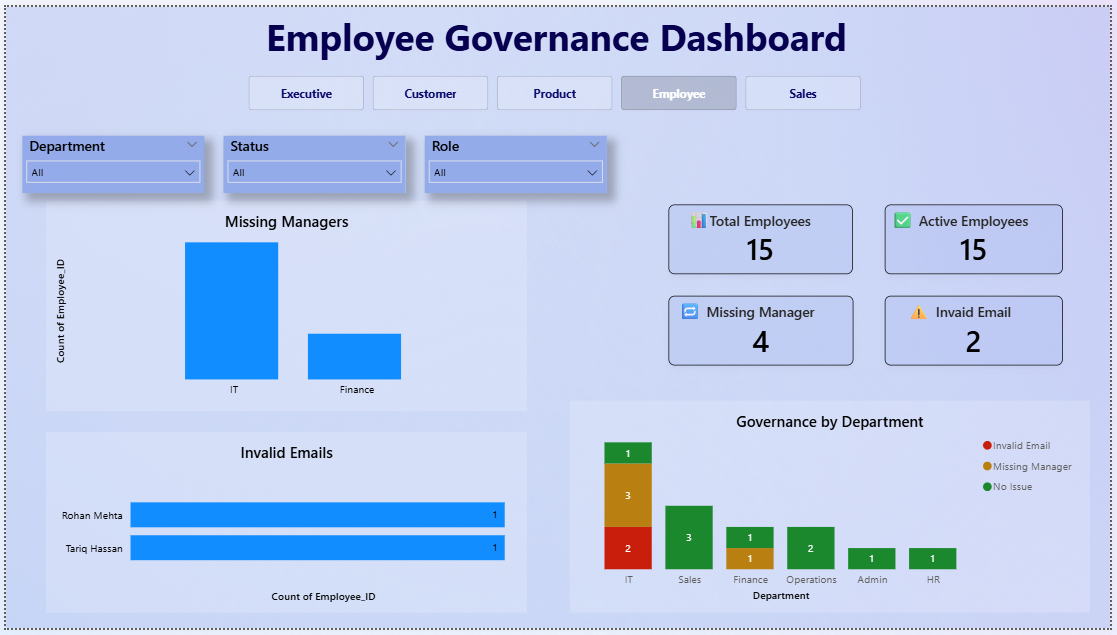

The dashboard page shown, as its layout file describes it:
{"tool":"powerbi","page":{"name":"Employee","canvas":[1280,720],"ordinal":3},"visuals":[{"type":"clusteredColumnChart","title":"Missing Managers","fields":{"Category":["employee_data.Department"],"Y":["CountNonNull(employee_data.Employee_ID)"]},"box":[46.5,225.3,557.9,244.4],"z":0},{"type":"columnChart","title":"Governance by Department","fields":{"Category":["employee_data.Department"],"Y":["CountNonNull(employee_data.Employee_ID)"],"Series":["employee_data.Issue_Flag"]},"box":[653.2,456.5,603.2,245.6],"z":1000},{"type":"slicer","fields":{"Values":["employee_data.Department"]},"box":[19.3,149.1,211.1,66.7],"z":2000},{"type":"slicer","fields":{"Values":["employee_data.Role"]},"box":[484.8,149.1,211.1,66.7],"z":3000},{"type":"slicer","fields":{"Values":["employee_data.Status"]},"box":[252.6,149.1,211.1,66.7],"z":4000},{"type":"textbox","box":[189.5,0,896.5,67.8],"z":5000},{"type":"cardVisual","fields":{"Data":["employee_data.Total Employees"]},"box":[767.7,228.9,213.4,81.1],"z":6000},{"type":"cardVisual","fields":{"Data":["employee_data.Active_Employees"]},"box":[1019.2,228.9,206.2,81.1],"z":7000},{"type":"cardVisual","fields":{"Data":["employee_data.Invaid Employee Email"]},"box":[1019.3,335.2,206.2,80.7],"z":8000},{"type":"cardVisual","fields":{"Data":["employee_data.Missing Manager Count"]},"box":[767.7,335,214.6,81.1],"z":9000},{"type":"textbox","box":[785.5,228.9,40.5,40.5],"z":10000},{"type":"textbox","box":[1022.3,229,34.8,40.2],"z":11000},{"type":"textbox","box":[776,335,38.1,42.9],"z":12000},{"type":"textbox","box":[1040.6,335,32.2,38.1],"z":13000},{"type":"clusteredBarChart","title":"Invalid Emails","fields":{"Category":["employee_data.Full_Name"],"Y":["CountNonNull(employee_data.Employee_ID)"]},"box":[46.5,492.3,557.9,209.8],"z":14000},{"type":"pageNavigator","box":[280.5,79.3,714.9,40.2],"z":15000}]}

Visuals, with their boxes in screenshot pixels (x1, y1, x2, y2), scaled from the page's 1280x720 canvas onto the 1117x635 screenshot:
"Missing Managers" clusteredColumnChart: 41 199 527 414
"Governance by Department" columnChart: 570 403 1096 619
slicer - employee_data.Department: 17 131 201 190
slicer - employee_data.Role: 423 131 607 190
slicer - employee_data.Status: 220 131 405 190
textbox: 165 0 948 60
cardVisual - employee_data.Total Employees: 670 202 856 273
cardVisual - employee_data.Active_Employees: 889 202 1069 273
cardVisual - employee_data.Invaid Employee Email: 889 296 1069 367
cardVisual - employee_data.Missing Manager Count: 670 295 857 367
textbox: 685 202 721 238
textbox: 892 202 922 237
textbox: 677 295 710 333
textbox: 908 295 936 329
"Invalid Emails" clusteredBarChart: 41 434 527 619
pageNavigator: 245 70 869 105
